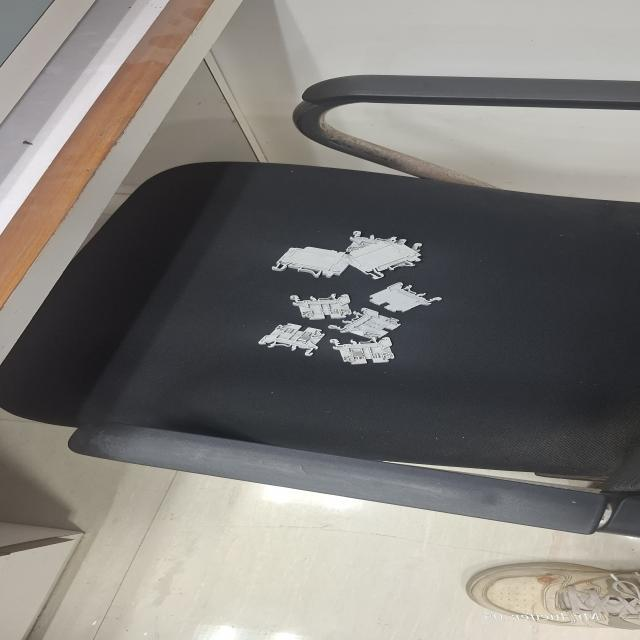Inverted: (366, 281, 442, 313)
Reject: (258, 322, 328, 358), (327, 306, 402, 338), (328, 335, 394, 365), (290, 293, 354, 320)
